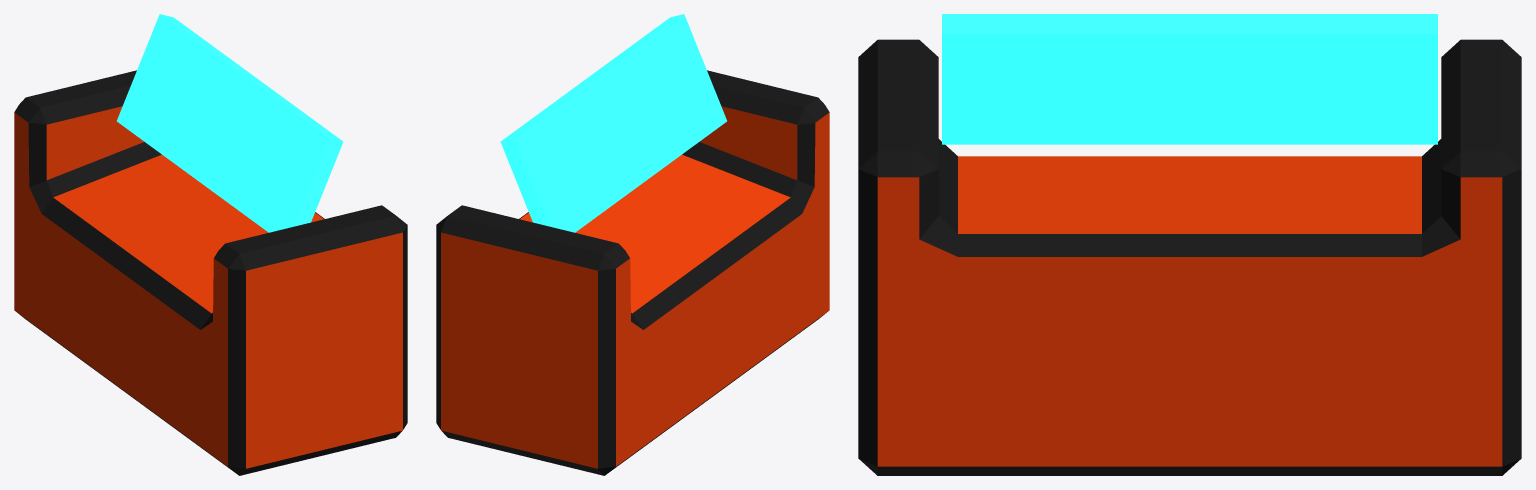
Rendered from Computer.fbx.
3 views of the same model, side by side, from view 1: azimuth 30°, elevation 25°; view 2: azimuth 150°, elevation 25°; view 3: azimuth 270°, elevation 25° (orthographic). The views are drawn at different scales.
Parts seen in each view (by area): view 1: SciFi_Computer; view 2: SciFi_Computer; view 3: SciFi_Computer.
Boxes of the visible parts, <box> form: SciFi_Computer: <box>14,14,407,475</box>; SciFi_Computer: <box>436,14,829,475</box>; SciFi_Computer: <box>858,14,1521,475</box>.
Size of the model in its own units: 23.48 by 36.74 by 51.37.
